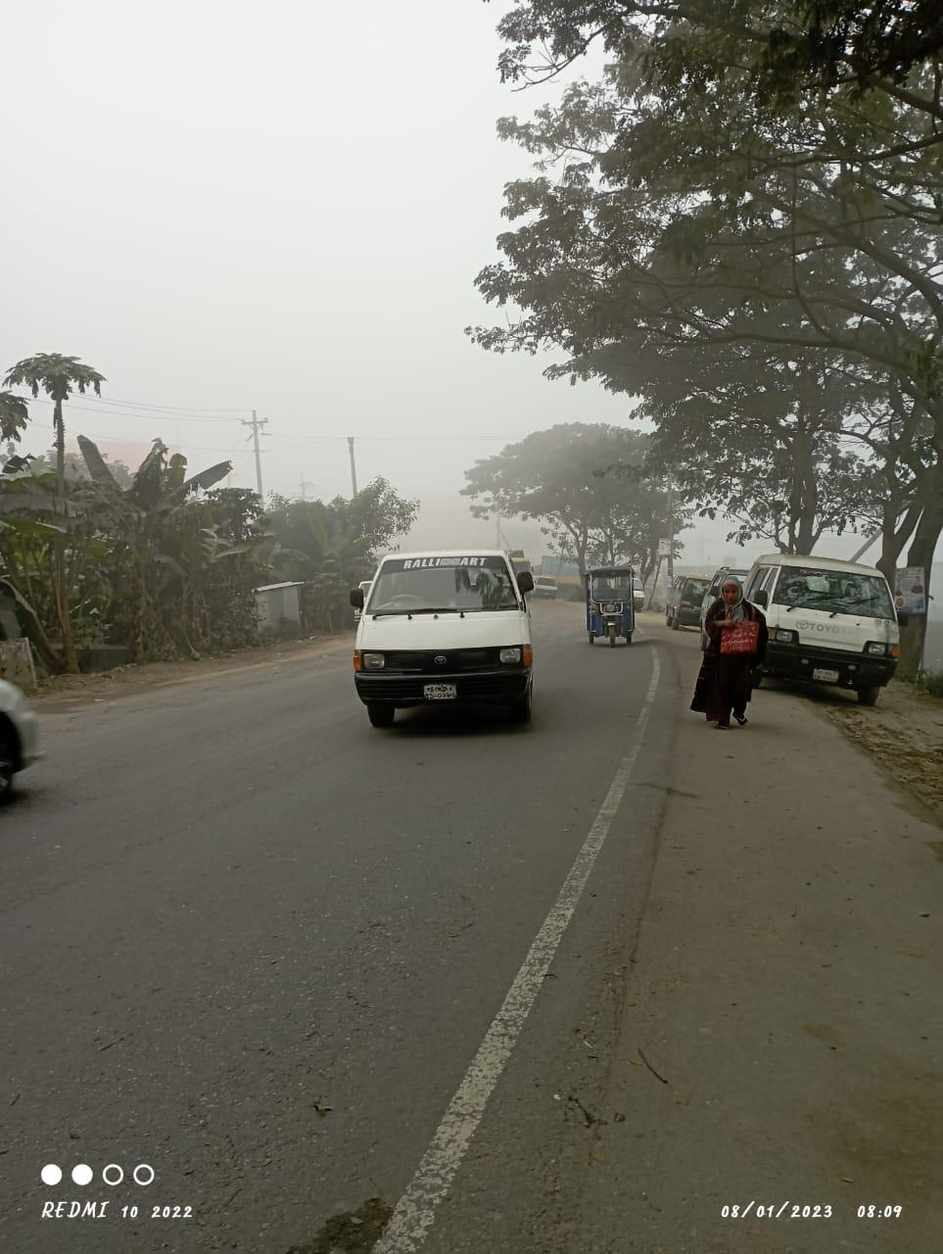Car: (339, 532, 553, 745), (749, 537, 915, 708), (582, 556, 642, 655), (660, 561, 723, 651)
